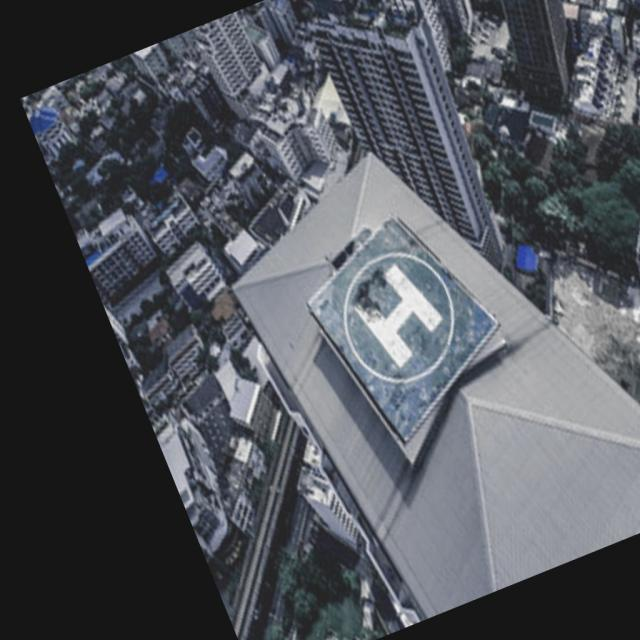helipad: (337, 243, 459, 386)
